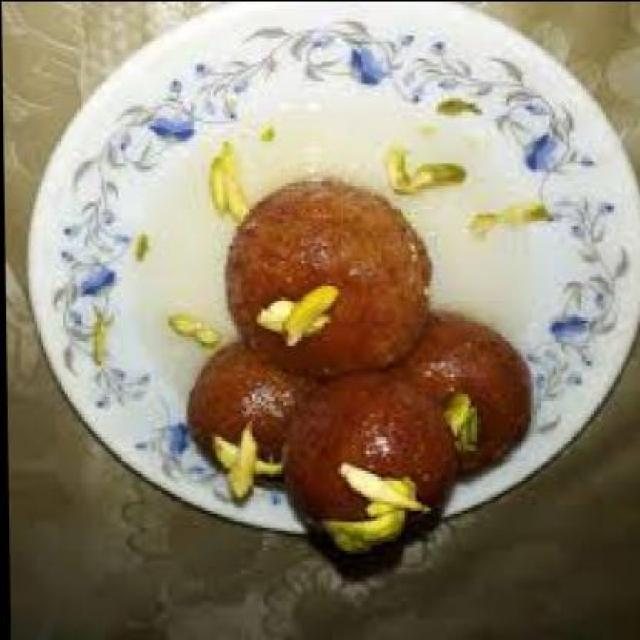gulab_jamun: (222, 179, 430, 378), (282, 371, 456, 551), (384, 312, 530, 483), (184, 342, 313, 484)
